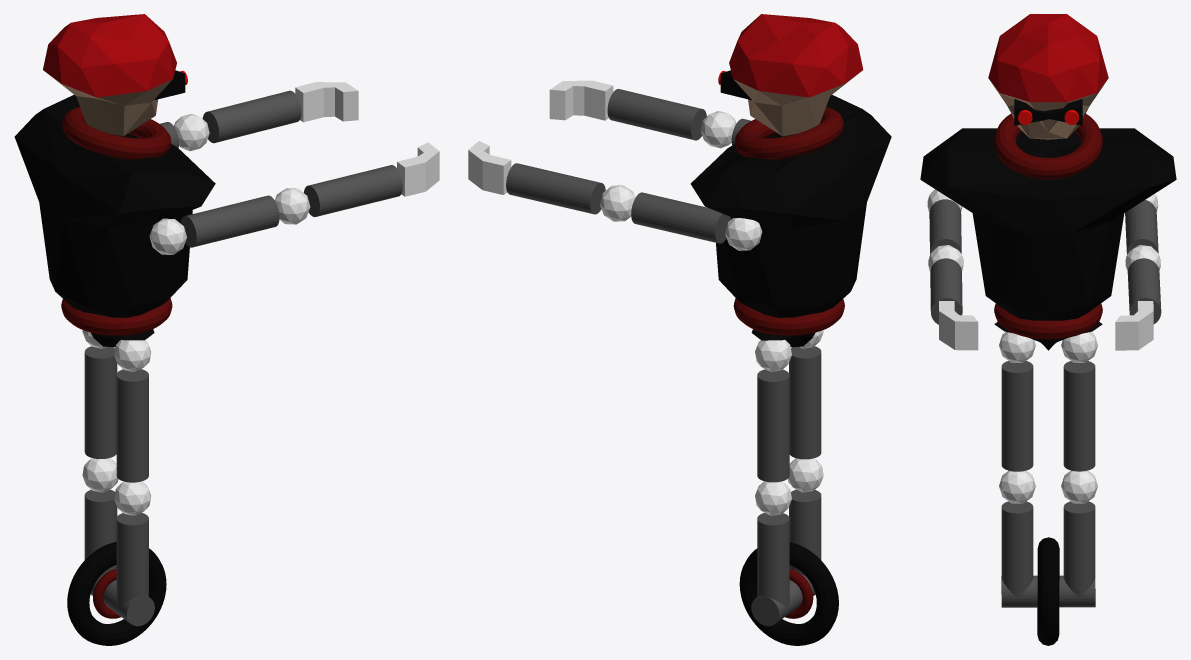
Rendered from EnemyOutlaw.fbx.
3 views of the same model, side by side, from view 1: azimuth 30°, elevation 25°; view 2: azimuth 150°, elevation 25°; view 3: azimuth 270°, elevation 25° (orthographic). The views are drawn at different scales.
Parts seen in each view (by area): view 1: Torso, Headpiece, wheel, ThighR, ThighL, Upper Arm R, Forearm R, Forearm L, Neck Link, Head, Calf R, left hand (+11 smaller); view 2: Torso, Headpiece, wheel, ThighL, ThighR, Forearm L, Forearm R, Upper Arm L, Neck Link, Head, Calf L, right hand (+11 smaller); view 3: Torso, Headpiece, ThighR, ThighL, Neck Link, Calf R, Calf L, wheel, Belt, Head, Forearm R, Forearm L (+12 smaller).
Boxes of the visible parts, left/top/right/bottom form: Torso: left=14, top=95, right=215, bottom=317; Headpiece: left=43, top=14, right=176, bottom=97; wheel: left=67, top=542, right=166, bottom=645; ThighR: left=116, top=369, right=148, bottom=482; ThighL: left=84, top=346, right=117, bottom=458; Upper Arm R: left=180, top=195, right=279, bottom=247; Forearm R: left=303, top=165, right=402, bottom=216; Forearm L: left=202, top=90, right=301, bottom=143; Neck Link: left=62, top=107, right=171, bottom=159; Head: left=44, top=71, right=172, bottom=136; Calf R: left=116, top=513, right=148, bottom=608; left hand: left=295, top=82, right=358, bottom=122; Torso: left=690, top=95, right=891, bottom=317; Headpiece: left=729, top=14, right=863, bottom=97; wheel: left=739, top=542, right=838, bottom=645; ThighL: left=757, top=369, right=789, bottom=482; ThighR: left=789, top=346, right=821, bottom=459; Forearm L: left=506, top=163, right=605, bottom=214; Forearm R: left=607, top=89, right=706, bottom=140; Upper Arm L: left=631, top=192, right=730, bottom=243; Neck Link: left=735, top=107, right=843, bottom=159; Head: left=734, top=73, right=858, bottom=136; Calf L: left=757, top=513, right=789, bottom=608; right hand: left=549, top=80, right=613, bottom=120; Torso: left=920, top=128, right=1176, bottom=320; Headpiece: left=988, top=14, right=1108, bottom=102; ThighR: left=1001, top=361, right=1033, bottom=471; ThighL: left=1063, top=361, right=1095, bottom=471; Neck Link: left=994, top=113, right=1102, bottom=179; Calf R: left=1001, top=501, right=1033, bottom=598; Calf L: left=1063, top=501, right=1095, bottom=598; wheel: left=1037, top=537, right=1059, bottom=645; Belt: left=994, top=303, right=1102, bottom=339; Head: left=990, top=81, right=1106, bottom=139; Forearm R: left=930, top=258, right=962, bottom=324; Forearm L: left=1127, top=258, right=1161, bottom=324.
Bounding box in the file's own units: 497 × 868 × 330.
